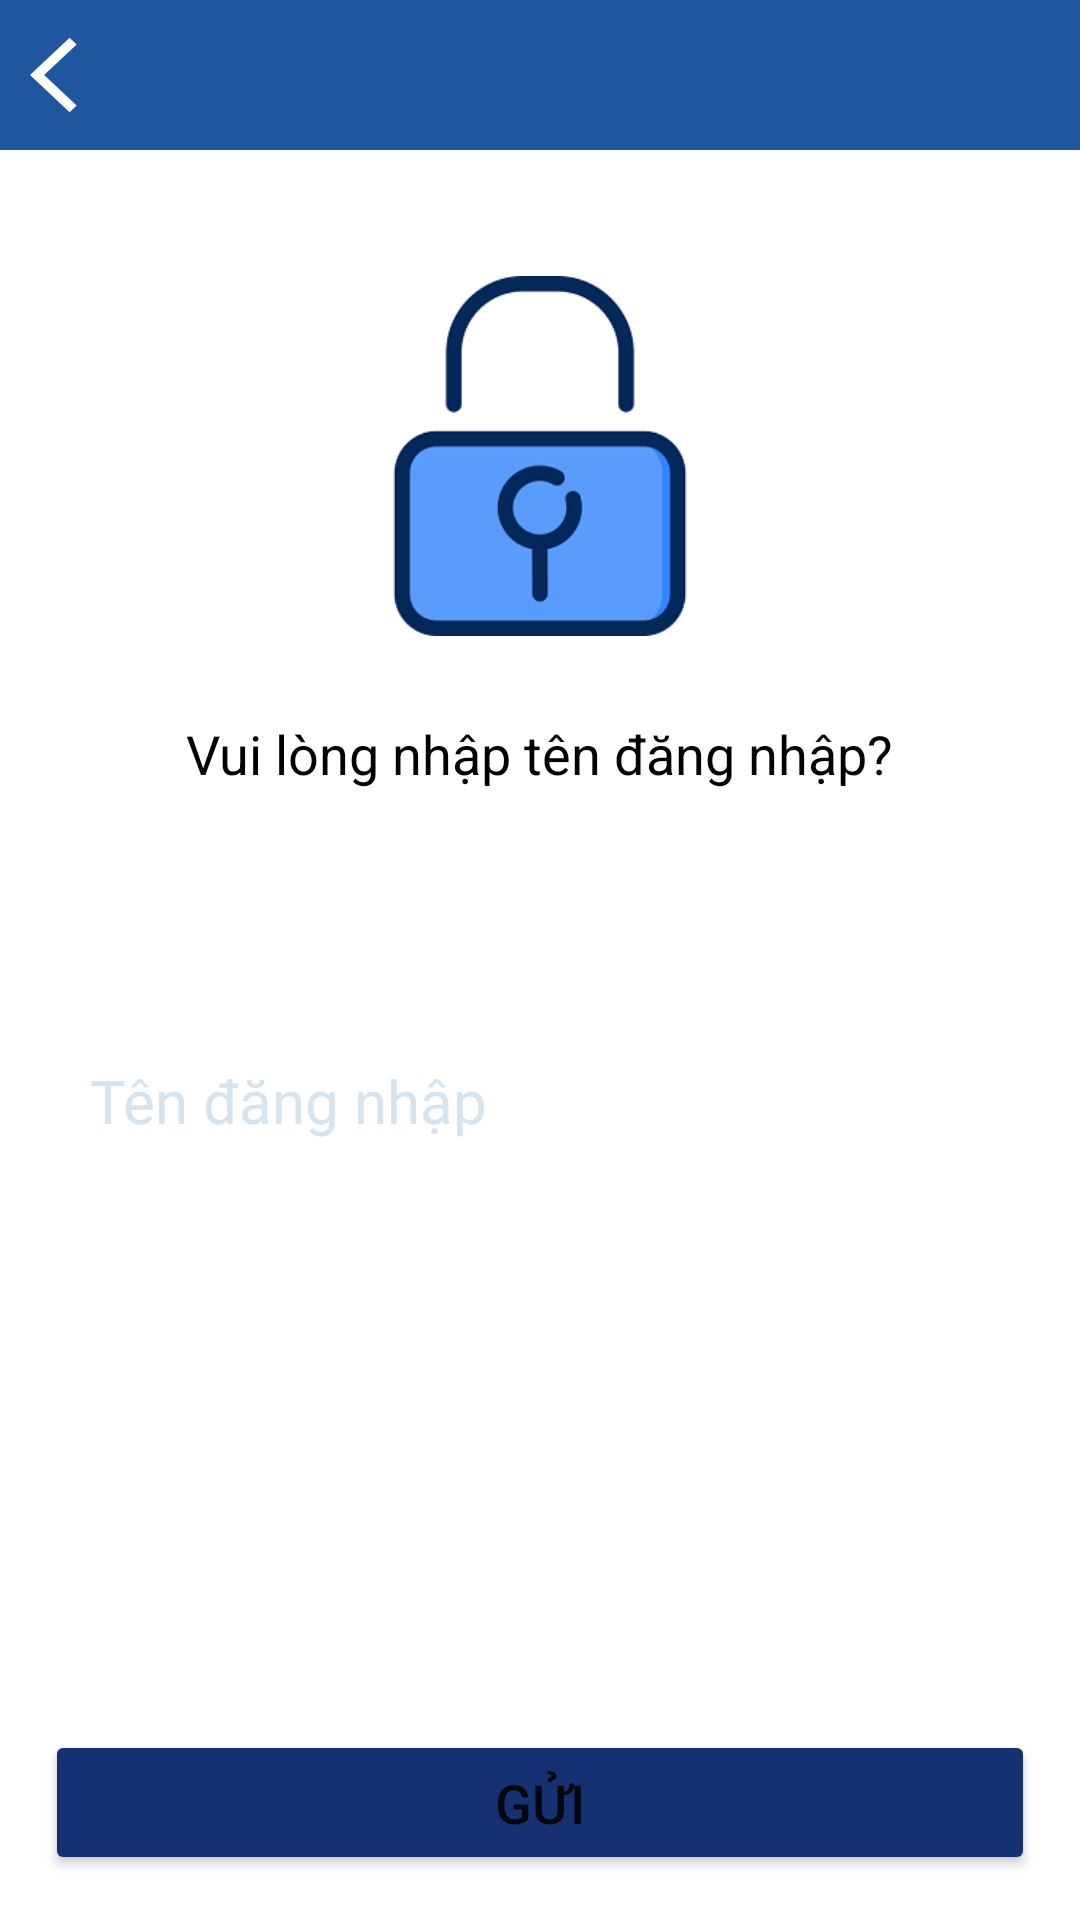

Where icons sit on this 1080px x 1920px app screen, as bbox=[x1, y1, x2, y2]:
backto: bbox=[30, 38, 77, 112]
lock: bbox=[393, 276, 687, 636]
